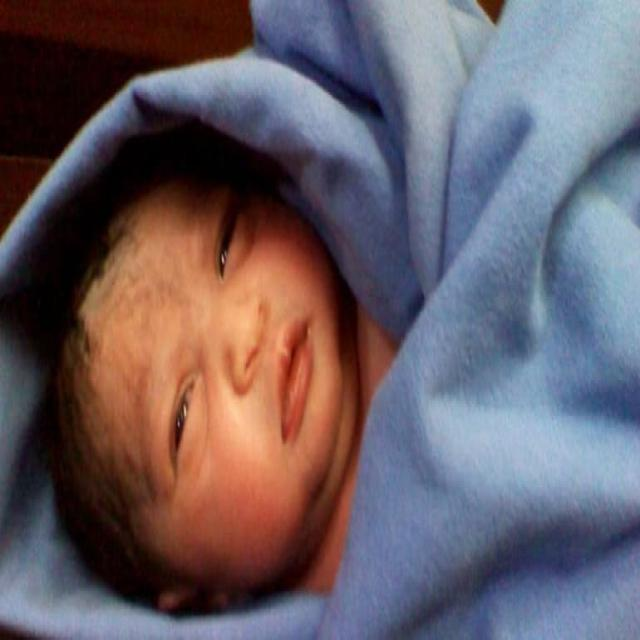non-dog: (1, 3, 640, 633)
